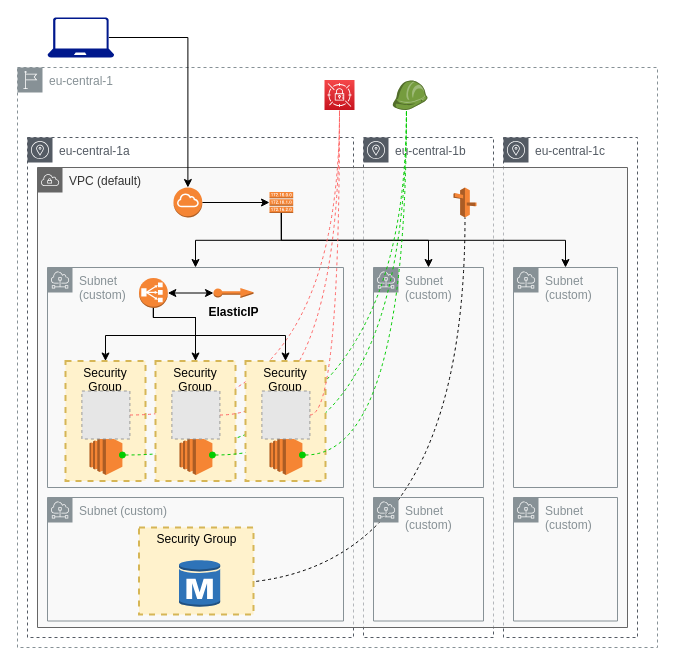
Image size: 675x665. Some labels were removed from this diagram. Grey dashed boxes stand in for pictures. The shapes that lost their labels are listed below. From the top down, each one's centre as x and y in pixels, then its label:
At [339,94]: "db secrets".
At [409,95]: "IAM role".
At [187,202]: "Internet gateway".
At [280,202]: "Route table public".
At [464,202]: "Route 53".
At [153,292]: "NLB".
